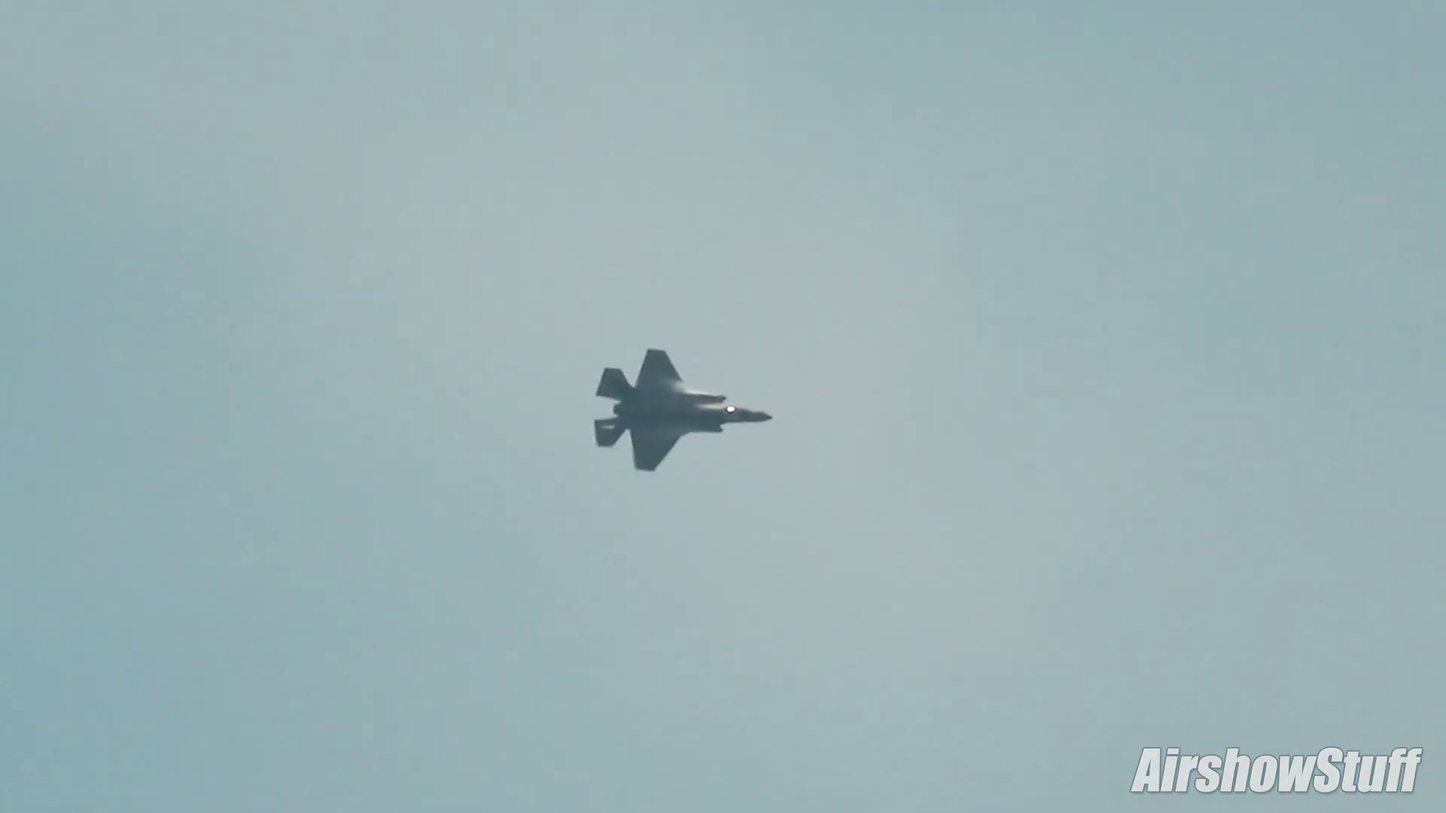F35: (580, 344, 781, 481)
